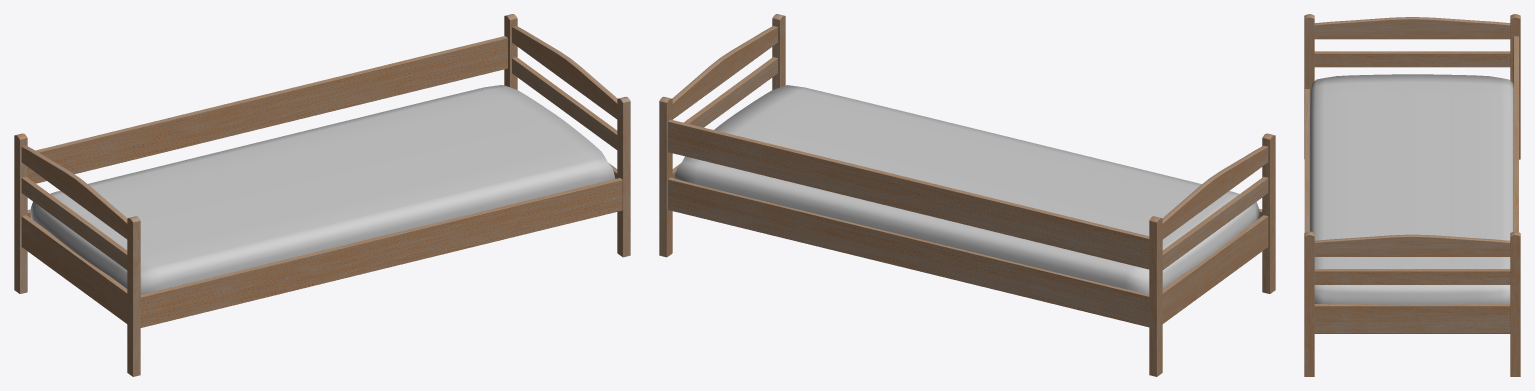
The model's file is Bed 001 textured.fbx.
3 views of the same model, side by side, from view 1: azimuth 30°, elevation 25°; view 2: azimuth 150°, elevation 25°; view 3: azimuth 270°, elevation 25° (orthographic). The views are drawn at different scales.
Parts seen in each view (by area): view 1: Cube.002, Cube.011, Cube.010, Cube.001, Cube.007, Cube.009, Cube.005, Cube.008, Cube.004; view 2: Cube.002, Cube.010, Cube.003, Cube.001, Cube.007, Cube.009, Cube.005, Cube.008, Cube.004; view 3: Cube.002, Cube.006, Cube.001, Cube.009, Cube.005, Cube.008, Cube.004, Cube.010, Cube.011.
Boxes of the visible parts, x1=… form: Cube.002: x1=30, y1=85, x2=615, y2=294; Cube.011: x1=140, y1=178, x2=622, y2=327; Cube.010: x1=27, y1=36, x2=507, y2=183; Cube.001: x1=14, y1=14, x2=630, y2=376; Cube.007: x1=21, y1=215, x2=127, y2=323; Cube.009: x1=21, y1=145, x2=127, y2=239; Cube.005: x1=512, y1=26, x2=617, y2=119; Cube.008: x1=21, y1=176, x2=127, y2=269; Cube.004: x1=512, y1=57, x2=617, y2=149; Cube.002: x1=674, y1=85, x2=1259, y2=293; Cube.010: x1=668, y1=119, x2=1149, y2=269; Cube.003: x1=668, y1=177, x2=1149, y2=327; Cube.001: x1=659, y1=14, x2=1275, y2=376; Cube.007: x1=1162, y1=215, x2=1268, y2=323; Cube.009: x1=1162, y1=145, x2=1268, y2=239; Cube.005: x1=672, y1=26, x2=777, y2=119; Cube.008: x1=1162, y1=176, x2=1268, y2=269; Cube.004: x1=684, y1=57, x2=777, y2=127; Cube.002: x1=1309, y1=74, x2=1513, y2=304; Cube.006: x1=1314, y1=304, x2=1510, y2=333; Cube.001: x1=1304, y1=14, x2=1520, y2=376; Cube.009: x1=1314, y1=17, x2=1510, y2=39; Cube.005: x1=1314, y1=234, x2=1510, y2=256; Cube.008: x1=1314, y1=51, x2=1510, y2=67; Cube.004: x1=1314, y1=269, x2=1510, y2=284; Cube.010: x1=1513, y1=36, x2=1518, y2=232; Cube.011: x1=1304, y1=89, x2=1309, y2=232.
Bounding box in the file's own units: 203 × 61.03 × 84.
